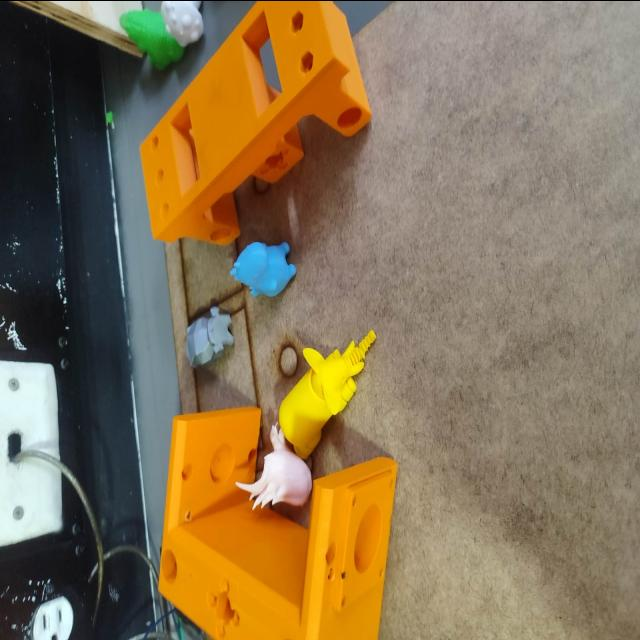DINO: (219, 224, 303, 311)
